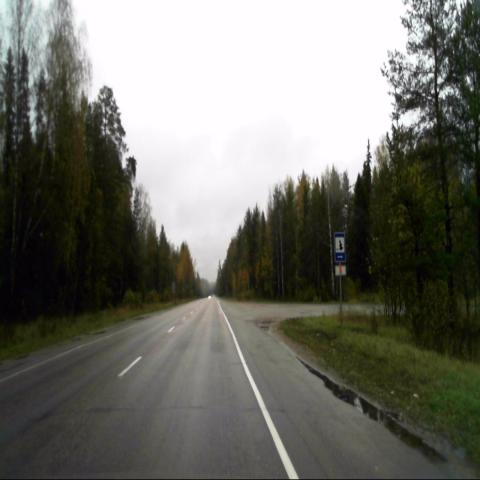7_11: (334, 229, 346, 263)
